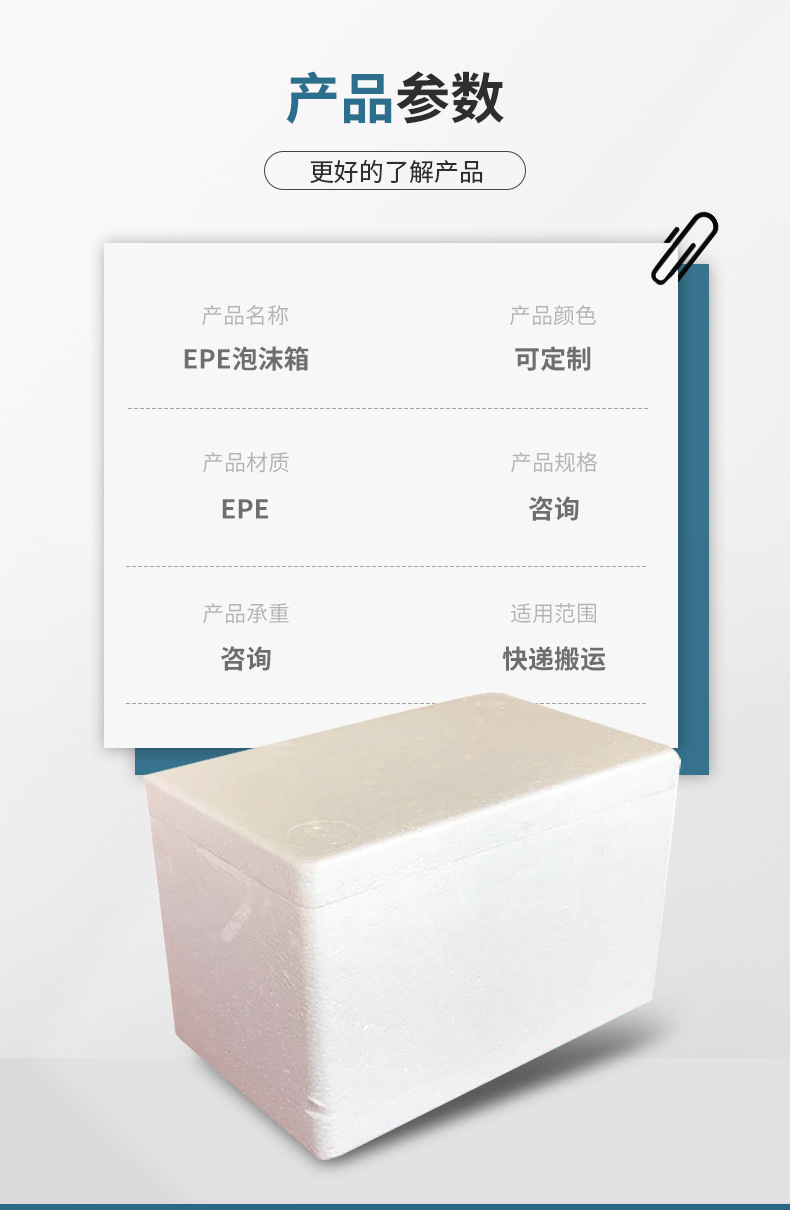Boxes: (146, 694, 678, 1158)
